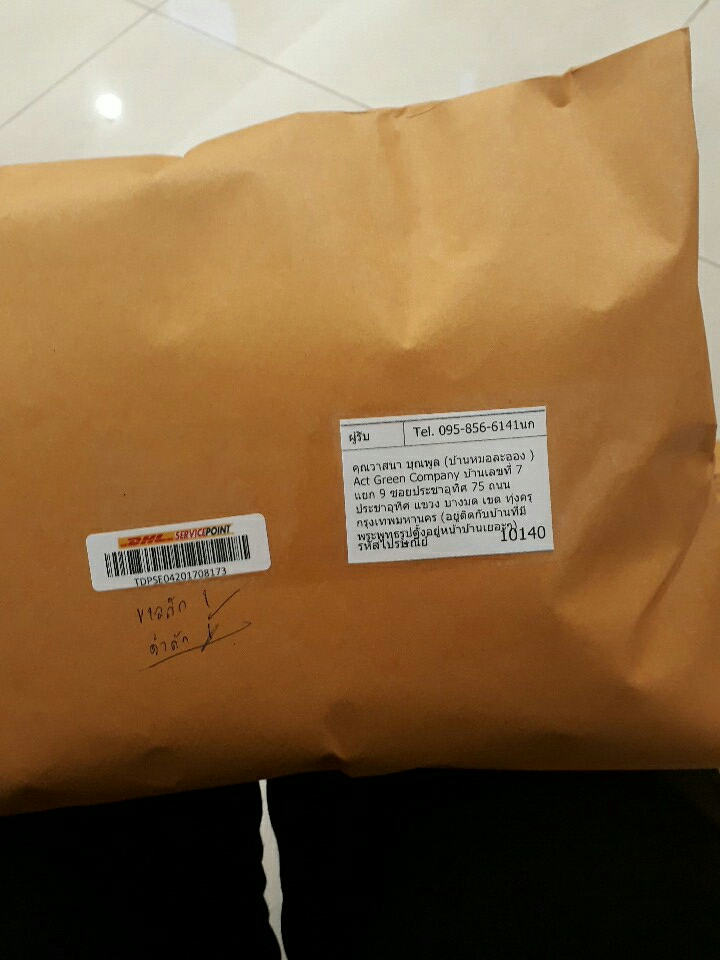txt: (348, 417, 550, 557)
